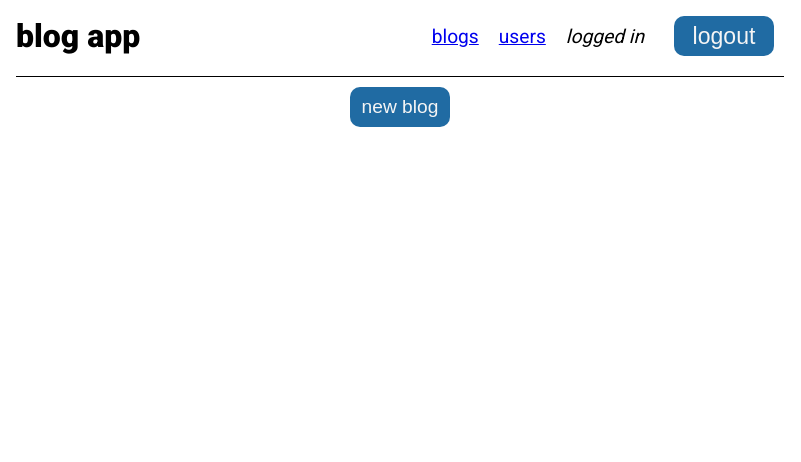
Blog app › When logged in › A blog can be created
Click the button "new blog".
click(400, 107)  # box [350,87,450,127]
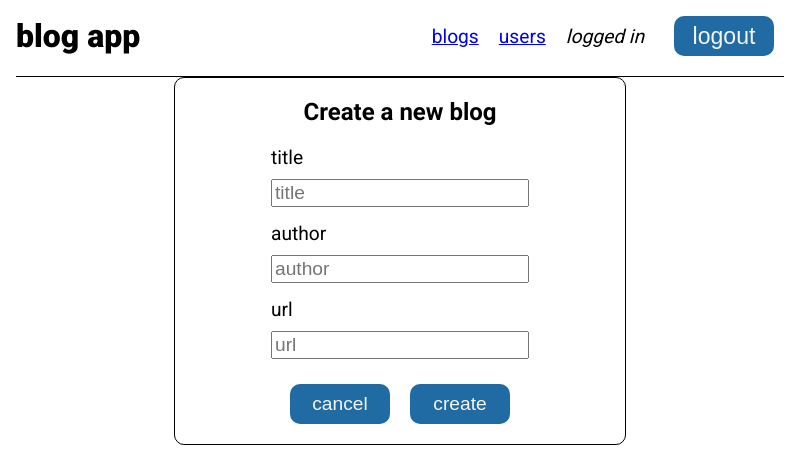
Type "You’re NOT gonna need it!" into the field with id "title".
click(400, 193); type("You’re NOT gonna need it!")  # box [271,179,529,207]
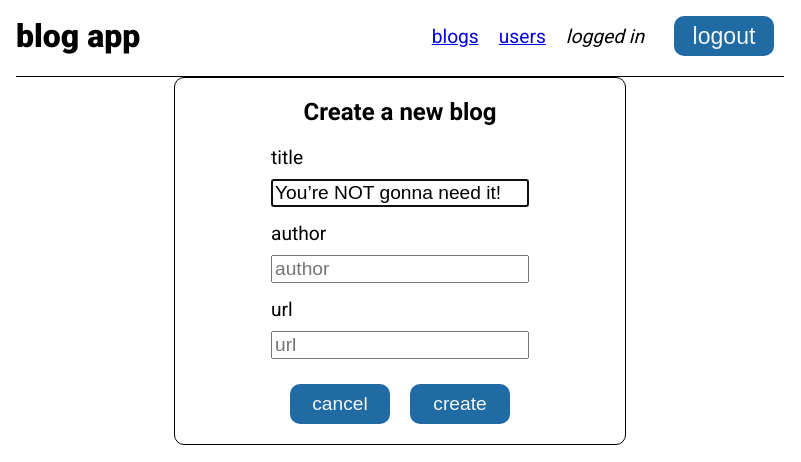
Type "Ron Jeffries" into the field with id "author".
click(400, 269); type("Ron Jeffries")  # box [271,255,529,283]
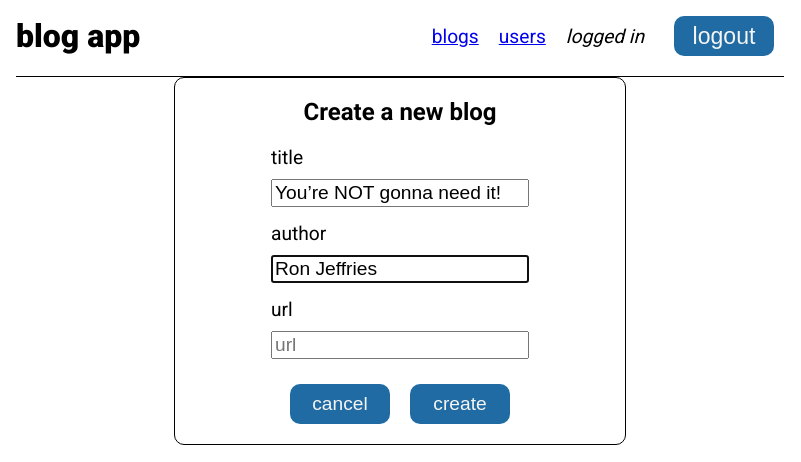
Type "https://ronjeffries.com/xprog/articles/practices/pracnotneed/" into the field with id "url".
click(400, 345); type("https://ronjeffries.com/xprog/articles/practices/pracnotneed/")  # box [271,331,529,359]
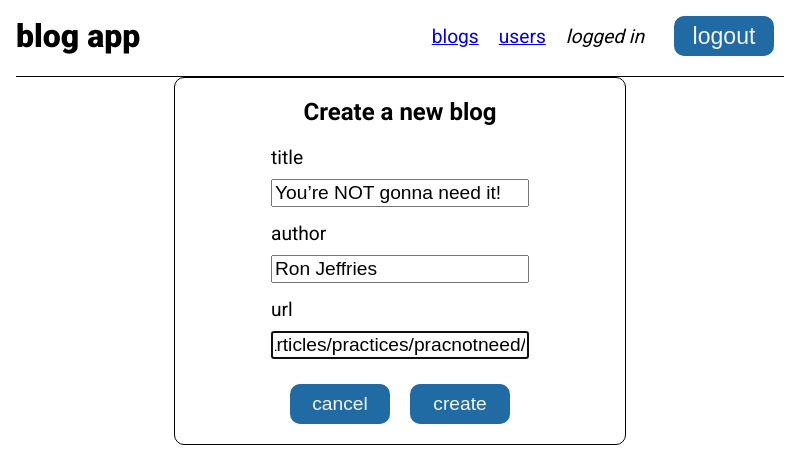
Click the button "create".
click(460, 404)  # box [410,384,510,424]
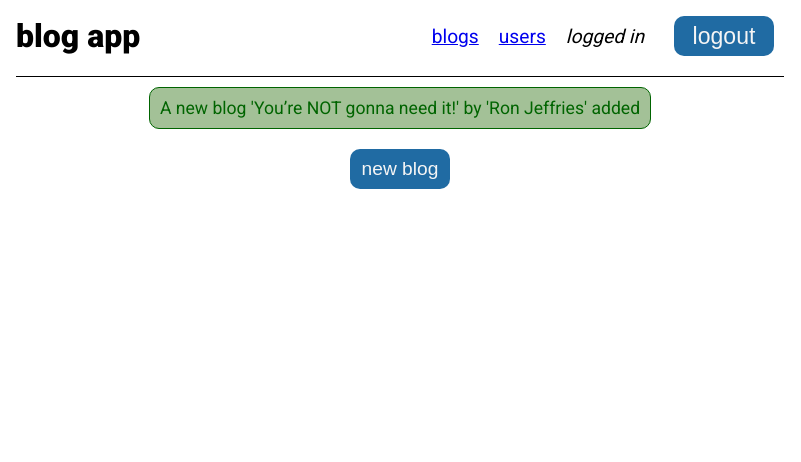
Now the text "Ron Jeffries" is shown, box [160,98,640,118]
